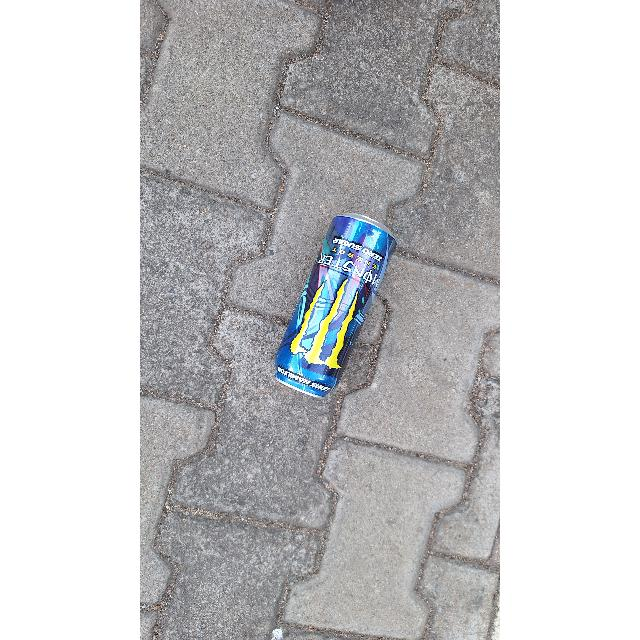Monster LH44: (274, 212, 402, 402)
